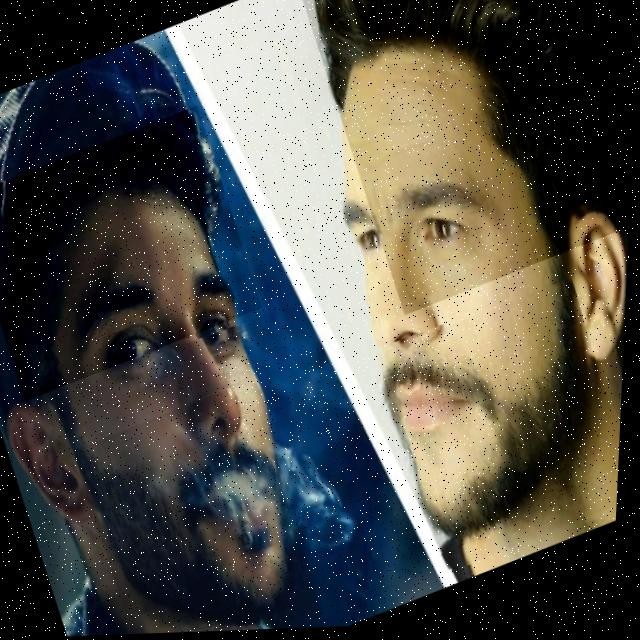beard: (391, 286, 609, 568), (79, 447, 292, 633)
hair: (315, 0, 621, 258), (7, 129, 222, 397)
